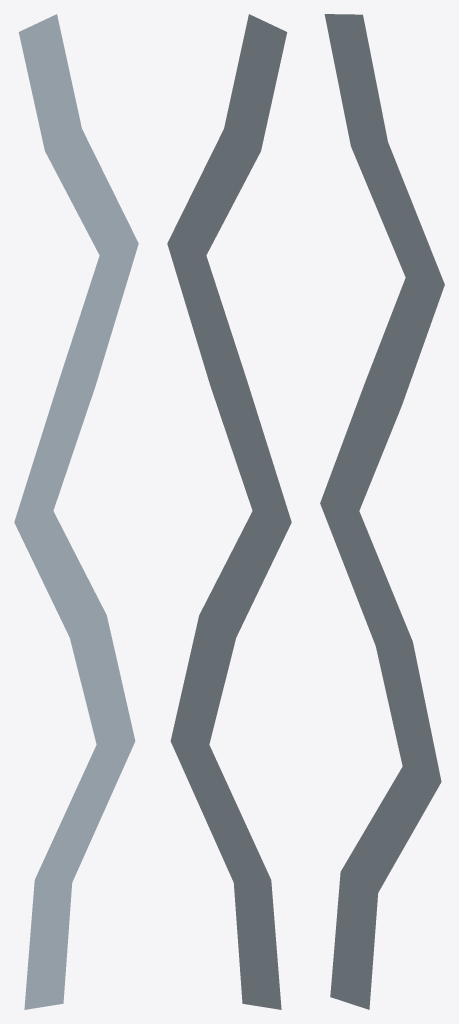
File: 2085_ThunderWave_1Round_CosmeticColumn_29_4.fbx
3 renders of one model, left to right at view 1: azimuth 30°, elevation 25°; view 2: azimuth 150°, elevation 25°; view 3: azimuth 330°, elevation 25°, orthographic.
Parts seen in each view (by area): view 1: PART_CosmeticColumn_29_4; view 2: PART_CosmeticColumn_29_4; view 3: PART_CosmeticColumn_29_4.
Boxes of the visible parts, <box> form: PART_CosmeticColumn_29_4: <box>14,14,138,1009</box>; PART_CosmeticColumn_29_4: <box>167,14,291,1009</box>; PART_CosmeticColumn_29_4: <box>320,14,444,1009</box>.
Size of the model in its own units: 15.87 by 121 by 1.97e-05.
